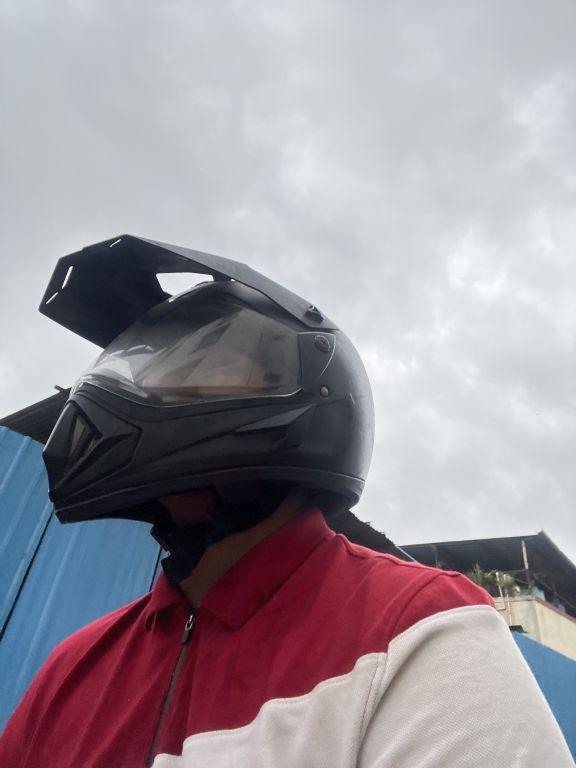helmet: (4, 223, 385, 537)
